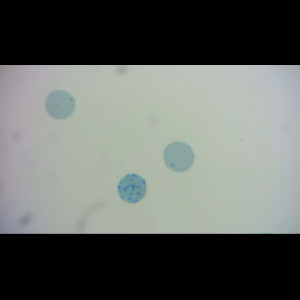aggregate reticulocyte: (116, 172, 149, 205)
punctate reticulocyte: (162, 141, 196, 173), (44, 90, 76, 120)
